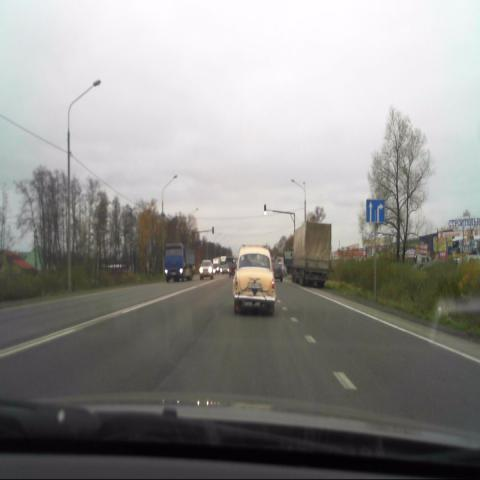5_15_2_2: (363, 196, 385, 224)
